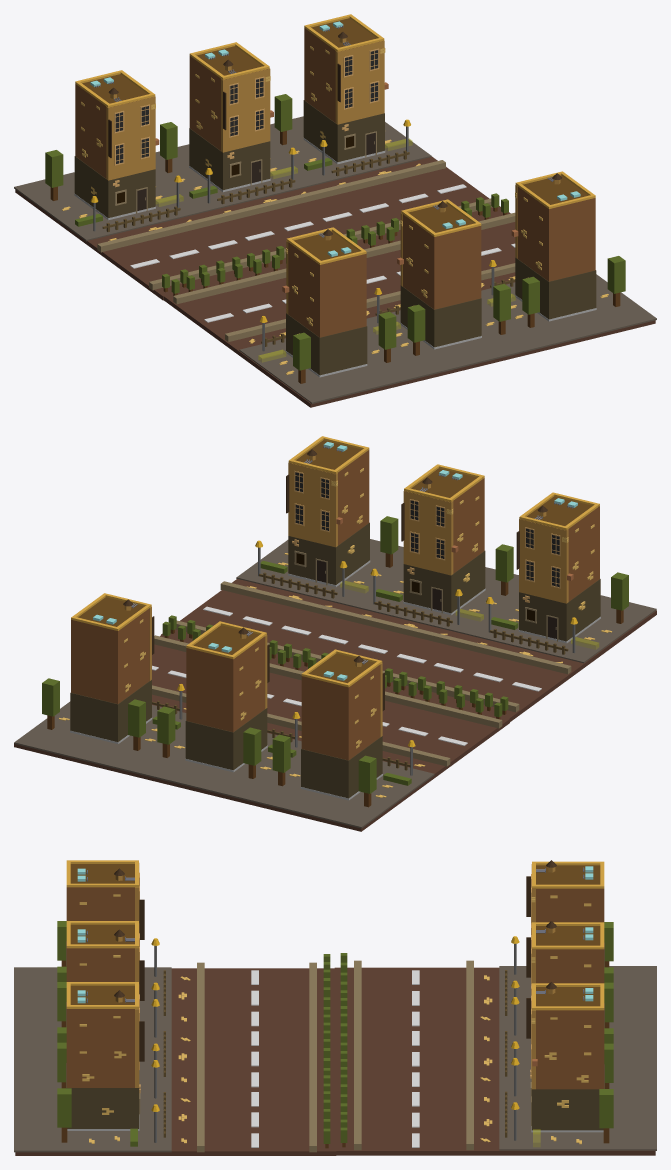
The model's file is 场景卡通.glb.
3 views of the same model, one above another, from view 1: azimuth 30°, elevation 25°; view 2: azimuth 150°, elevation 25°; view 3: azimuth 270°, elevation 25° (orthographic). The views are drawn at different scales.
Parts seen in each view (by area): view 1: 立方体.001, 立方体.102, 立方体.127, 立方体.069, 立方体.126, 立方体.133, 立方体.004, 立方体.037, 立方体.078, 立方体.108, 立方体.009, 立方体.018 (+45 smaller); view 2: 立方体.126, 立方体.002, 立方体.010, 立方体.038, 立方体.001, 立方体.009, 立方体.067, 立方体.101, 立方体.018, 立方体.044, 立方体.133, 立方体.078 (+44 smaller); view 3: 立方体.037, 立方体.067, 立方体.001, 立方体.101, 立方体.126, 立方体.004, 立方体.078, 立方体.044, 立方体.038, 立方体.069, 立方体.018, 立方体.009 (+34 smaller).
Boxes of the visible parts, bbox=[...] form: 立方体.001: bbox=[15, 189, 273, 300]; 立方体.102: bbox=[402, 213, 481, 309]; 立方体.127: bbox=[287, 241, 366, 337]; 立方体.069: bbox=[516, 185, 595, 281]; 立方体.126: bbox=[163, 268, 426, 407]; 立方体.133: bbox=[239, 332, 426, 403]; 立方体.004: bbox=[203, 184, 388, 266]; 立方体.037: bbox=[318, 156, 502, 238]; 立方体.078: bbox=[481, 274, 656, 348]; 立方体.108: bbox=[366, 302, 540, 375]; 立方体.009: bbox=[14, 172, 202, 241]; 立方体.018: bbox=[155, 144, 316, 212]; 立方体.126: bbox=[392, 610, 656, 721]; 立方体.002: bbox=[301, 665, 380, 760]; 立方体.010: bbox=[186, 636, 264, 732]; 立方体.038: bbox=[71, 608, 149, 703]; 立方体.001: bbox=[244, 691, 509, 831]; 立方体.009: bbox=[245, 758, 434, 828]; 立方体.067: bbox=[161, 579, 353, 662]; 立方体.101: bbox=[284, 607, 468, 690]; 立方体.018: bbox=[129, 729, 301, 799]; 立方体.044: bbox=[14, 701, 186, 771]; 立方体.133: bbox=[467, 595, 656, 663]; 立方体.078: bbox=[236, 539, 403, 606]; 立方体.037: bbox=[334, 1089, 655, 1155]; 立方体.067: bbox=[15, 1090, 336, 1155]; 立方体.001: bbox=[334, 967, 499, 1029]; 立方体.101: bbox=[171, 1029, 336, 1089]; 立方体.126: bbox=[171, 968, 336, 1028]; 立方体.004: bbox=[334, 1028, 499, 1089]; 立方体.078: bbox=[14, 1089, 171, 1152]; 立方体.044: bbox=[499, 1088, 656, 1150]; 立方体.038: bbox=[536, 1010, 604, 1089]; 立方体.069: bbox=[66, 1009, 134, 1087]; 立方体.018: bbox=[499, 1027, 656, 1088]; 立方体.009: bbox=[499, 966, 656, 1027].
Size of what is drawn, in the model's own units: 155 by 54.5 by 228.
